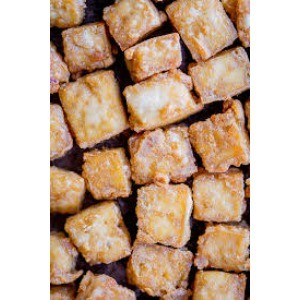tofu_brain food: (67, 37, 236, 264)
